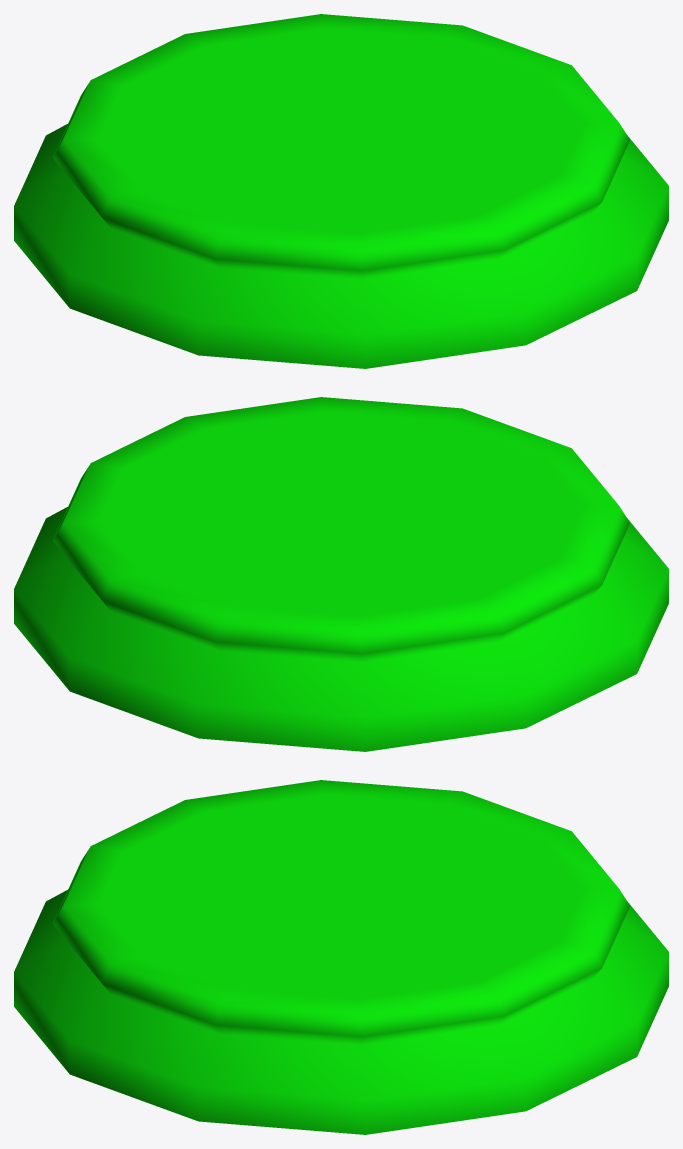
Rendered from mdl_ciudadela_monumento.fbx.
The picture shows the model from 3 angles, top to bottom: view 1: azimuth 30°, elevation 25°; view 2: azimuth 150°, elevation 25°; view 3: azimuth 270°, elevation 25°; orthographic projection.
Visible parts, largest first — view 1: mdl_ciudadela_monumento; view 2: mdl_ciudadela_monumento; view 3: mdl_ciudadela_monumento.
Boxes of the visible parts, box(x1,y1,x2,y2) form: mdl_ciudadela_monumento: box(14, 14, 668, 368); mdl_ciudadela_monumento: box(14, 397, 668, 751); mdl_ciudadela_monumento: box(14, 780, 668, 1134).
Size of the model in its own units: 7.49 by 1.25 by 7.49.
